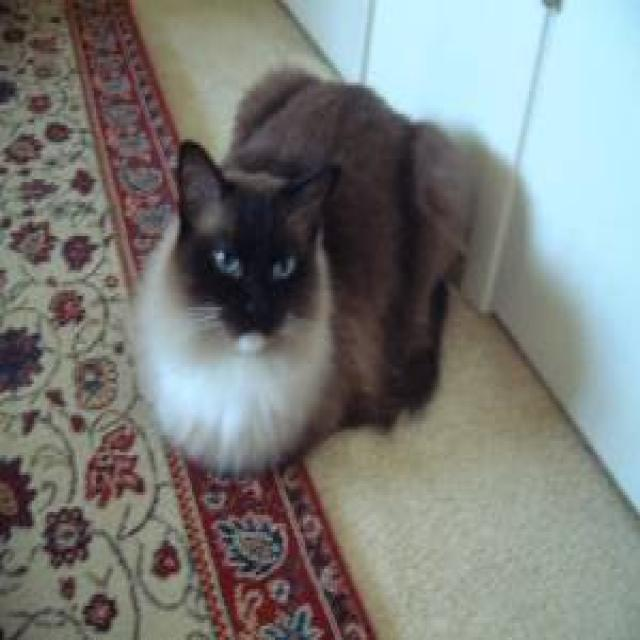Ragdoll: (174, 130, 344, 359)
